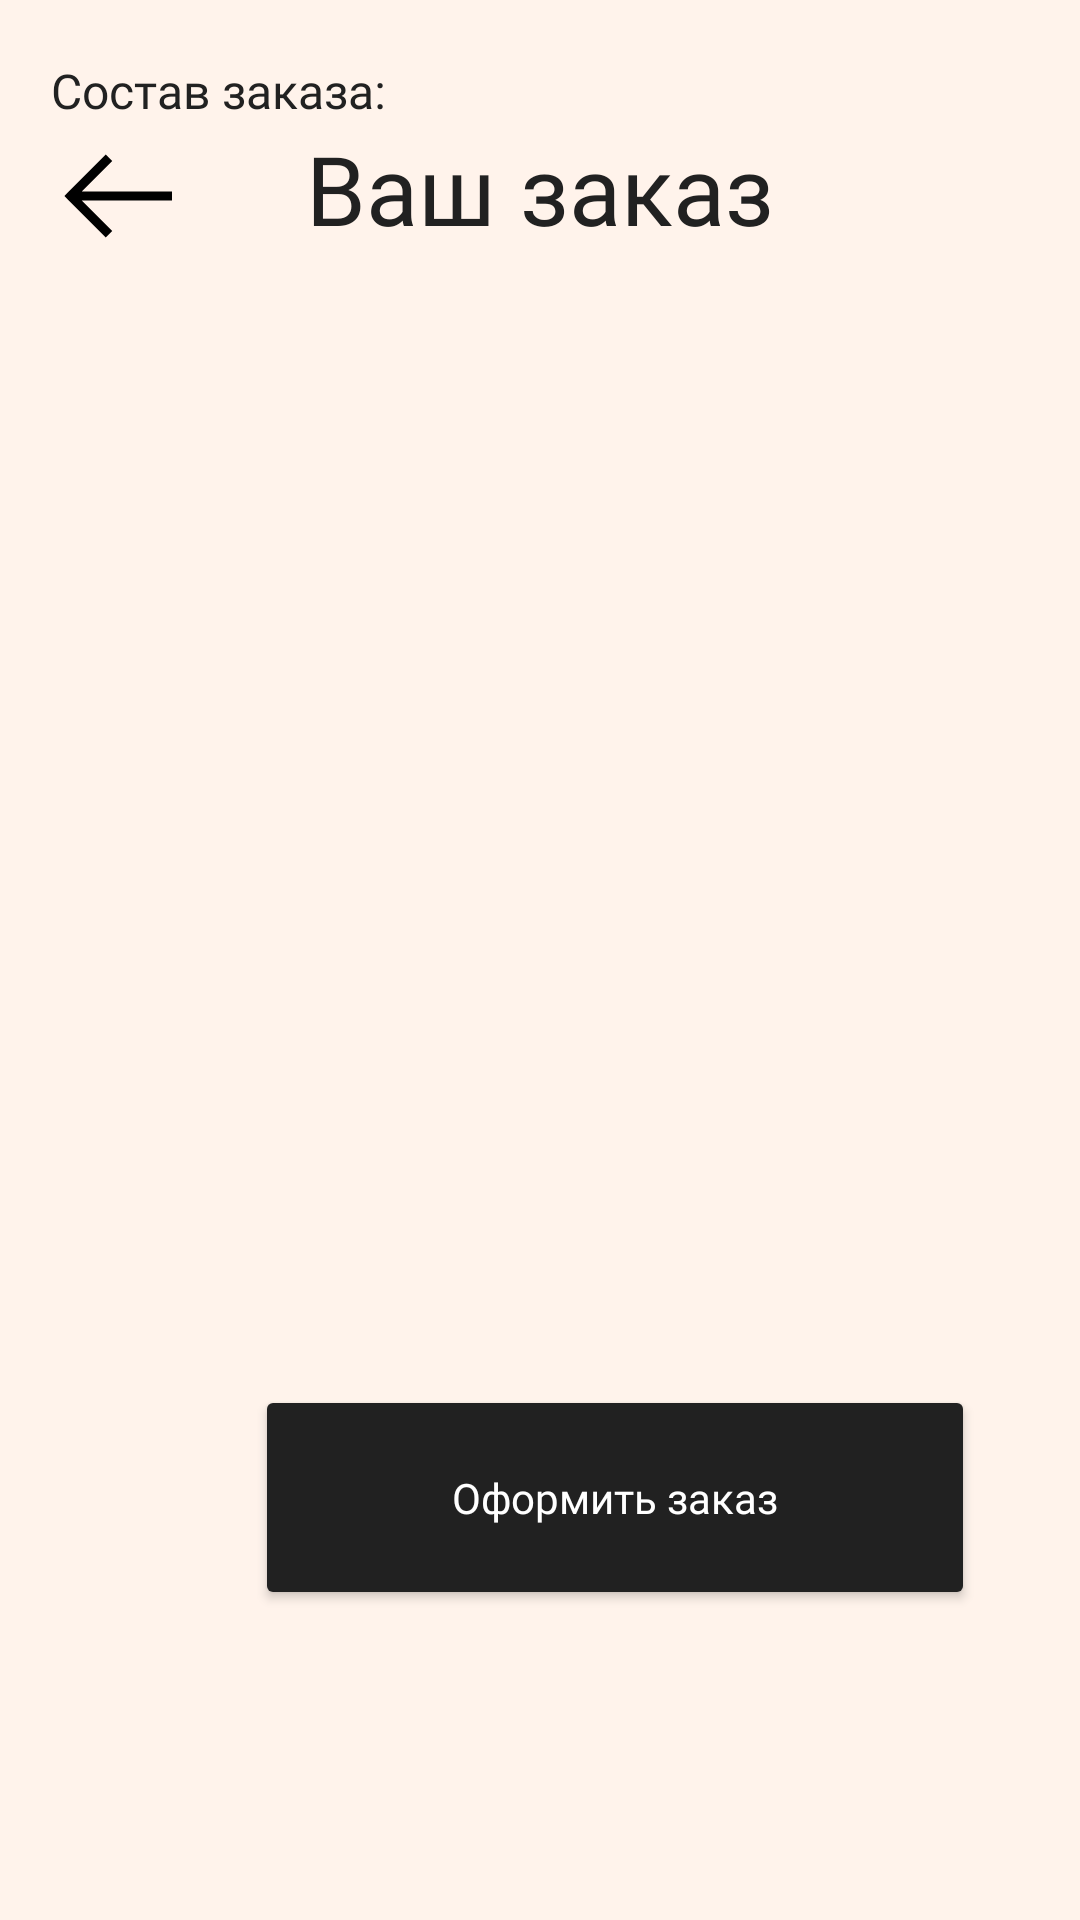

Screen size 1080 x 1920. Icon name, then its center in pixels as (x,y):
back: (118,196)
